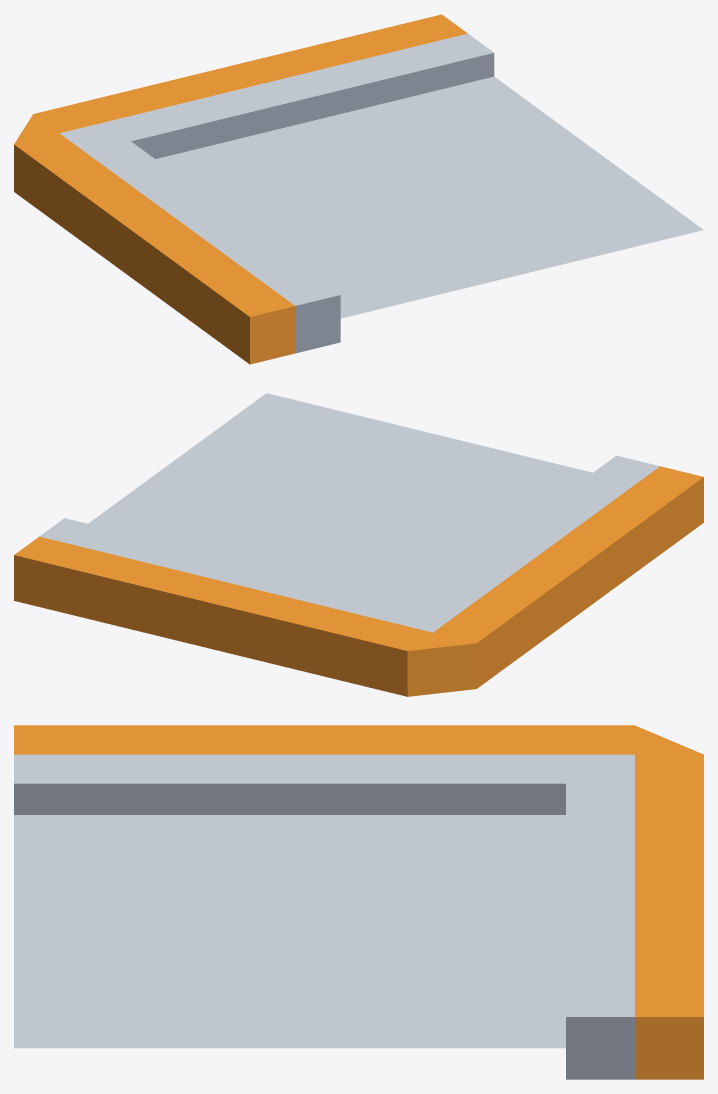
File: platform_cornerOpen.glb
The picture shows the model from 3 angles, top to bottom: view 1: azimuth 30°, elevation 25°; view 2: azimuth 150°, elevation 25°; view 3: azimuth 270°, elevation 25°; orthographic projection. The views are drawn at different scales.
Parts seen in each view (by area): view 1: platform_cornerOpen; view 2: platform_cornerOpen; view 3: platform_cornerOpen.
Boxes of the visible parts, x1=… form: platform_cornerOpen: x1=14, y1=14, x2=703, y2=364; platform_cornerOpen: x1=14, y1=393, x2=703, y2=696; platform_cornerOpen: x1=14, y1=725, x2=703, y2=1079.
Bounding box in the file's own units: 1 × 0.1 × 1.
